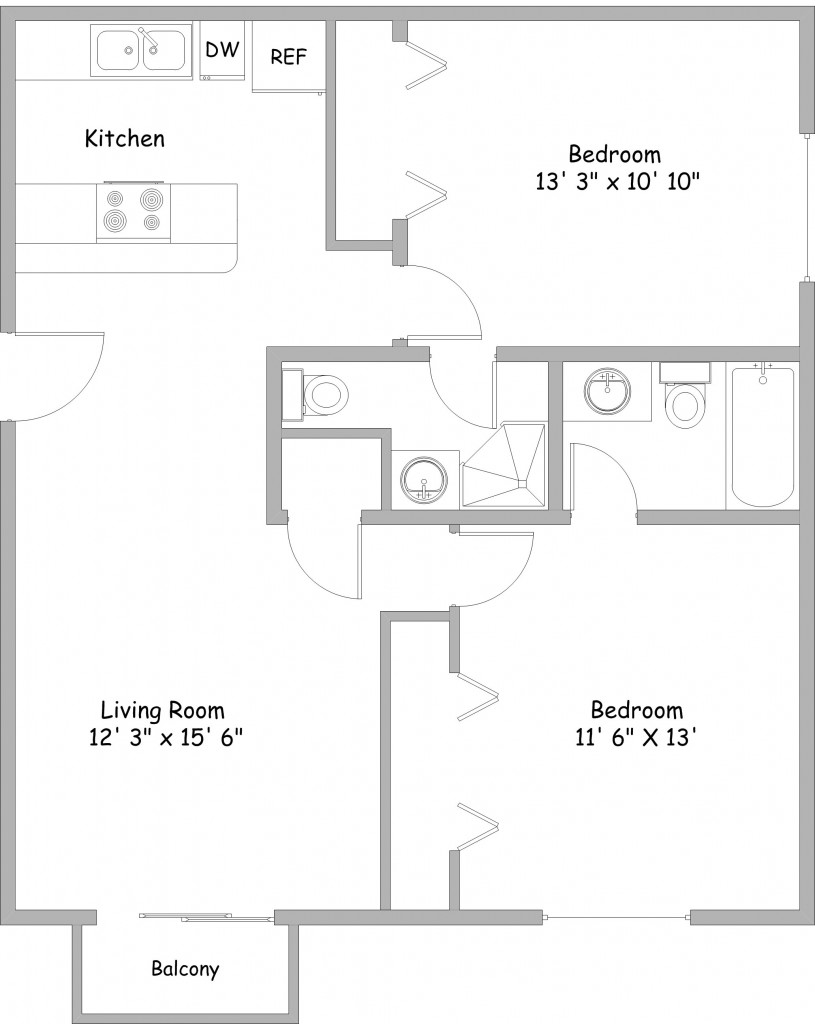door: (26, 317, 130, 426), (274, 526, 375, 614), (410, 259, 501, 346), (470, 526, 544, 608), (564, 437, 640, 505)
room: (377, 512, 815, 922), (394, 22, 815, 362), (1, 609, 383, 929), (3, 5, 335, 260), (74, 909, 300, 1023)
